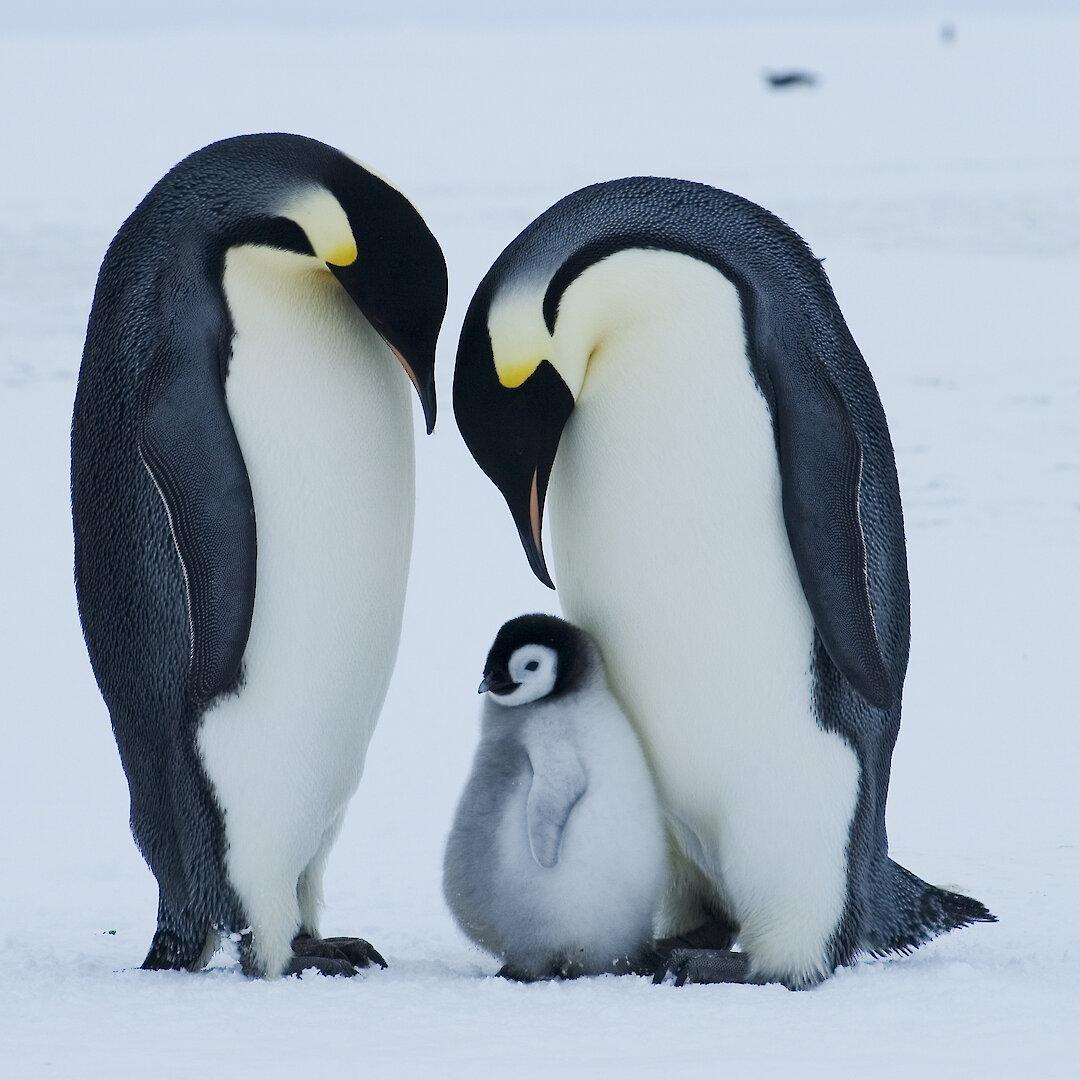Penguin: (451, 177, 998, 990), (71, 133, 447, 977), (443, 614, 666, 981)
